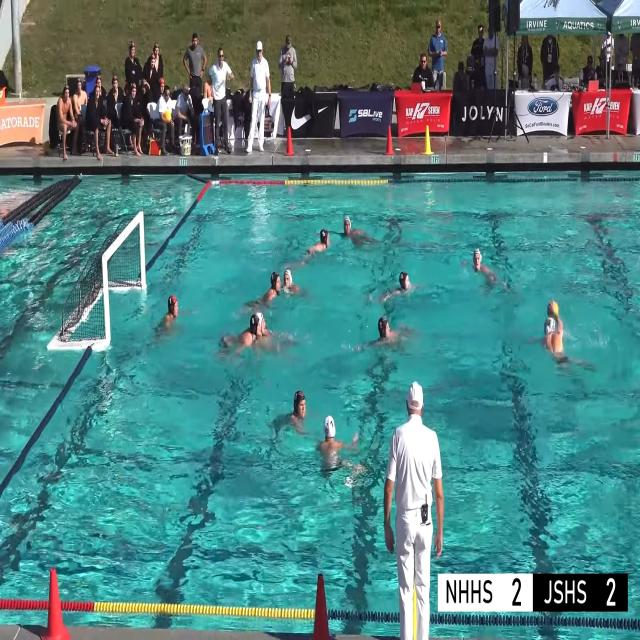ball: (547, 300, 559, 318)
